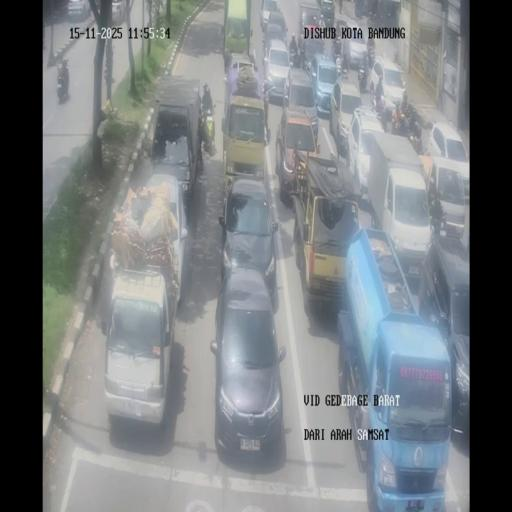car: (210, 270, 286, 463), (102, 264, 177, 430), (275, 104, 319, 202), (425, 123, 469, 206), (329, 76, 364, 154), (370, 54, 408, 118), (262, 39, 292, 103), (310, 51, 338, 117), (340, 22, 368, 68), (226, 52, 258, 92), (299, 28, 323, 70), (262, 10, 287, 47), (316, 0, 336, 28), (67, 0, 87, 22), (111, 0, 126, 25), (300, 6, 316, 27)
motorcycle: (202, 108, 216, 156), (428, 206, 446, 236), (104, 44, 116, 84), (407, 125, 423, 154), (56, 68, 68, 103), (400, 94, 414, 122), (366, 7, 382, 30), (357, 61, 368, 93), (391, 111, 405, 136), (335, 56, 347, 80), (366, 40, 376, 67), (289, 46, 301, 68), (332, 40, 338, 62), (393, 47, 399, 63)
truck: (338, 232, 450, 506), (294, 156, 362, 315), (362, 134, 431, 274), (150, 77, 204, 213), (220, 72, 268, 205), (222, 0, 252, 60)
